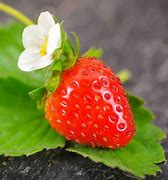Fresa: (41, 54, 137, 157)
